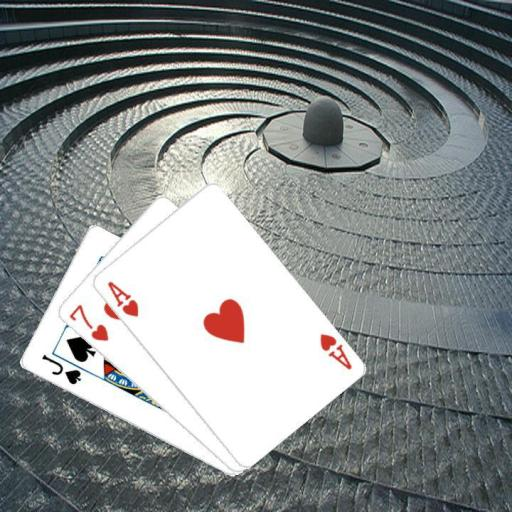7H: (66, 301, 111, 343)
AH: (316, 330, 353, 372), (104, 278, 140, 319)
JS: (39, 351, 83, 387)
